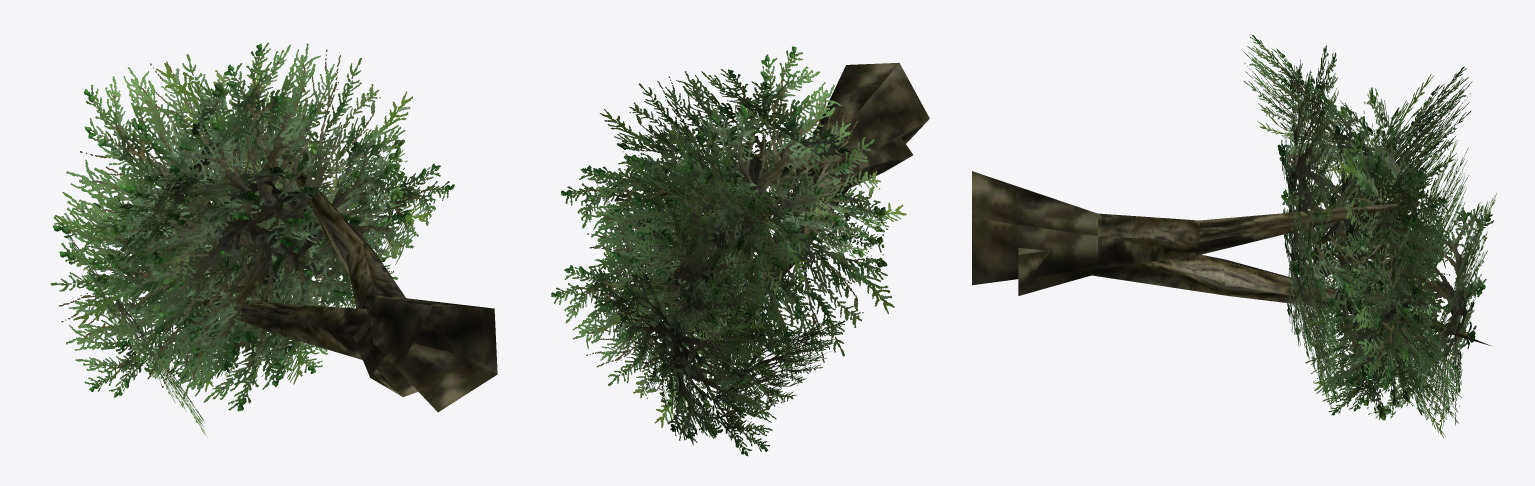
The model's file is olive_03.glb.
The picture shows the model from 3 angles, left to right: view 1: azimuth 30°, elevation 25°; view 2: azimuth 150°, elevation 25°; view 3: azimuth 270°, elevation 25°; orthographic projection. The views are drawn at different scales.
Size of the model in its own units: 14.53 by 13.82 by 15.3.
Materials: 1 (1 with a texture image).
